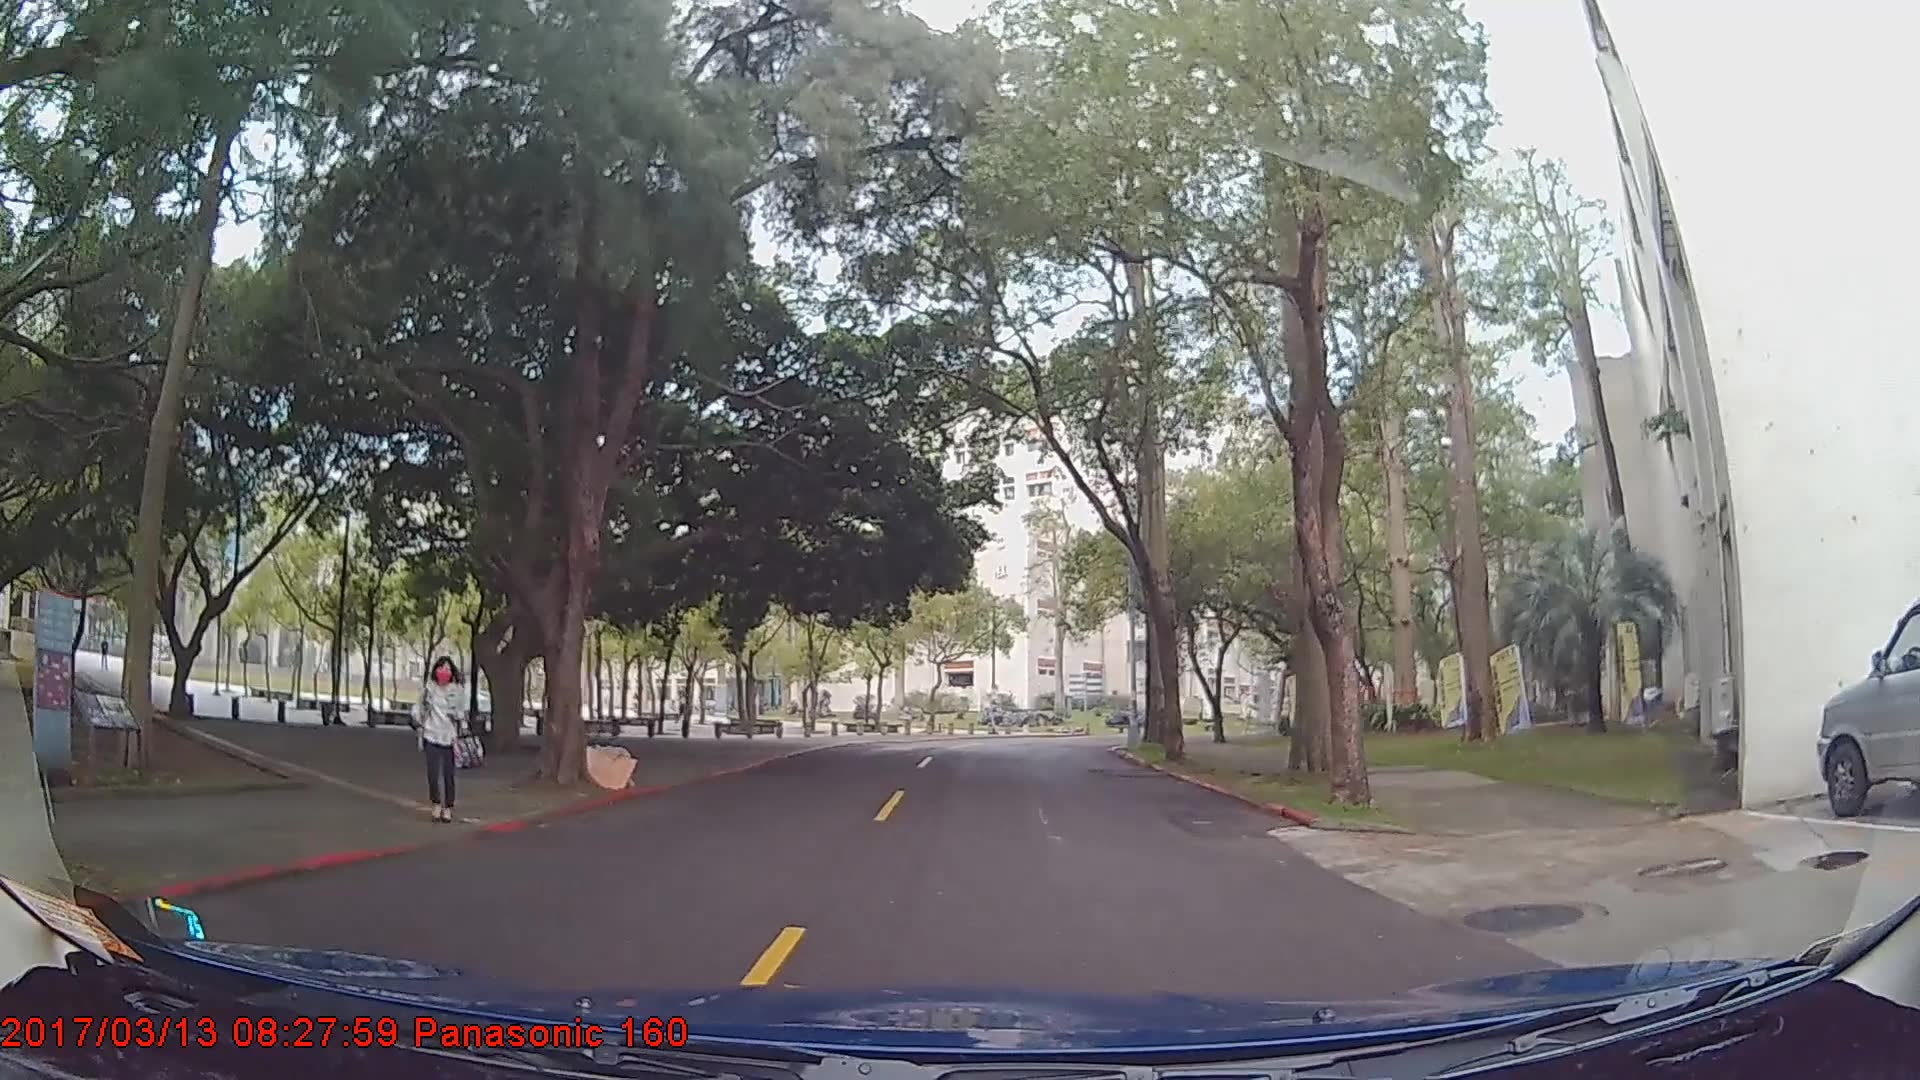pedestrian: (412, 655, 485, 825)
vehicle: (1817, 589, 1920, 820)
